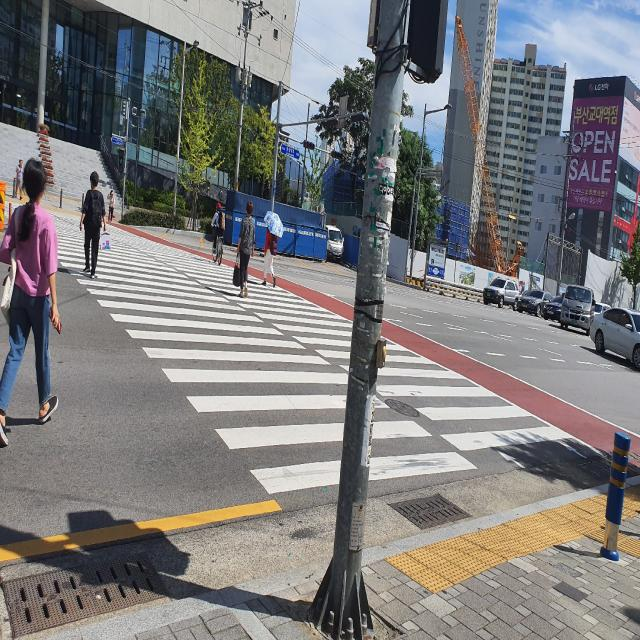횡단보도: (4, 200, 588, 497)
